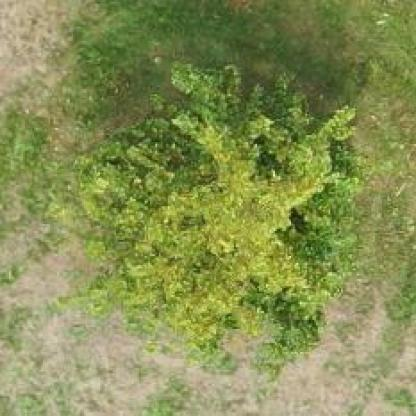Deciduous Tree: (61, 55, 384, 336)
